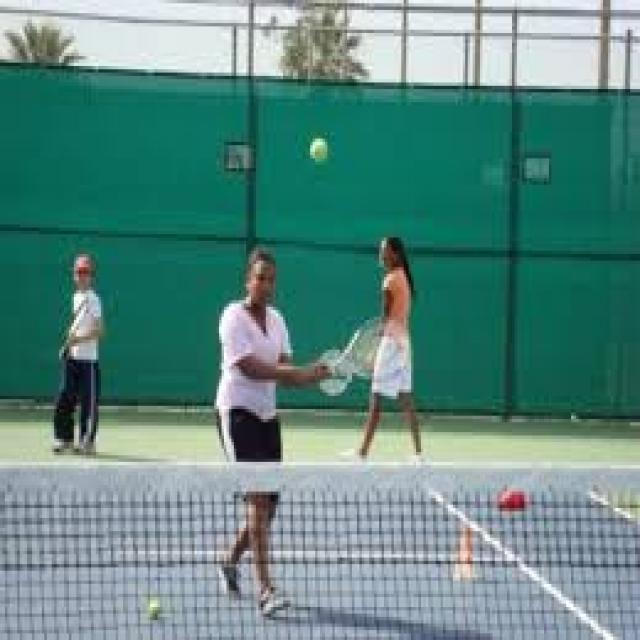Tennis-Ball: (308, 136, 329, 162), (147, 595, 163, 621)
